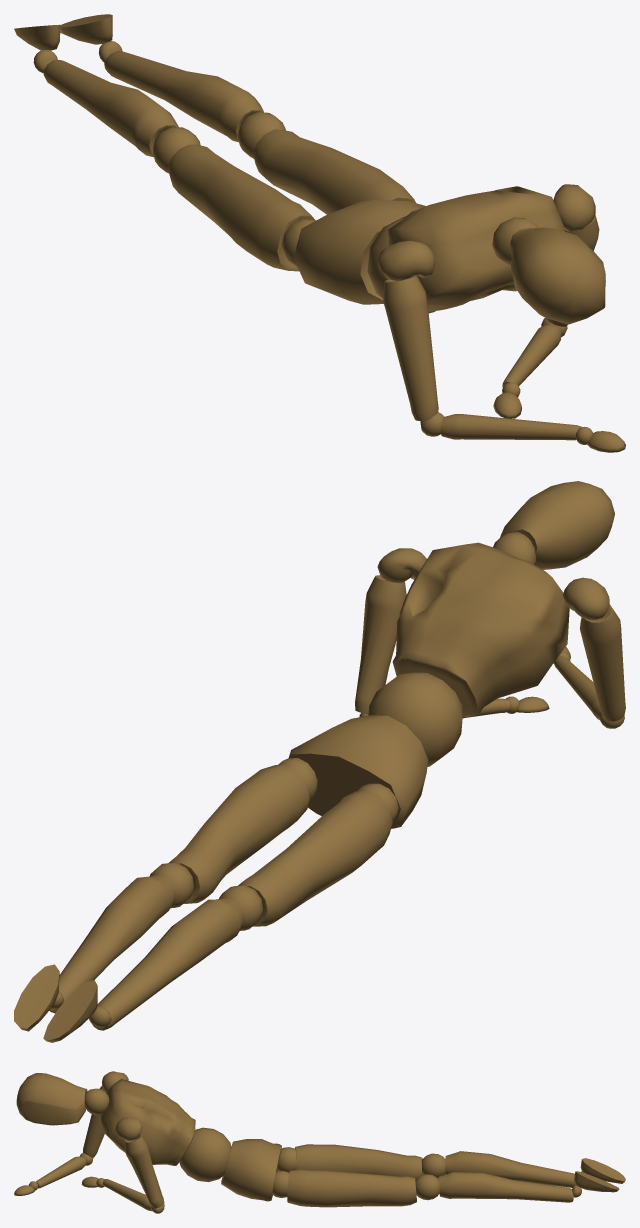
Rendered from maniqui_pose19.fbx.
3 renders of one model, top to bottom at view 1: azimuth 30°, elevation 25°; view 2: azimuth 150°, elevation 25°; view 3: azimuth 270°, elevation 25°, orthographic. The views are drawn at different scales.
Parts seen in each view (by area): view 1: dummy_obj.016; view 2: dummy_obj.016; view 3: dummy_obj.016.
Boxes of the visible parts, x1,y1,x2,y2 form: dummy_obj.016: (14, 14, 625, 452); dummy_obj.016: (14, 481, 625, 1042); dummy_obj.016: (14, 1071, 625, 1213).
Bounding box in the file's own units: 44.79 × 38.11 × 187.
